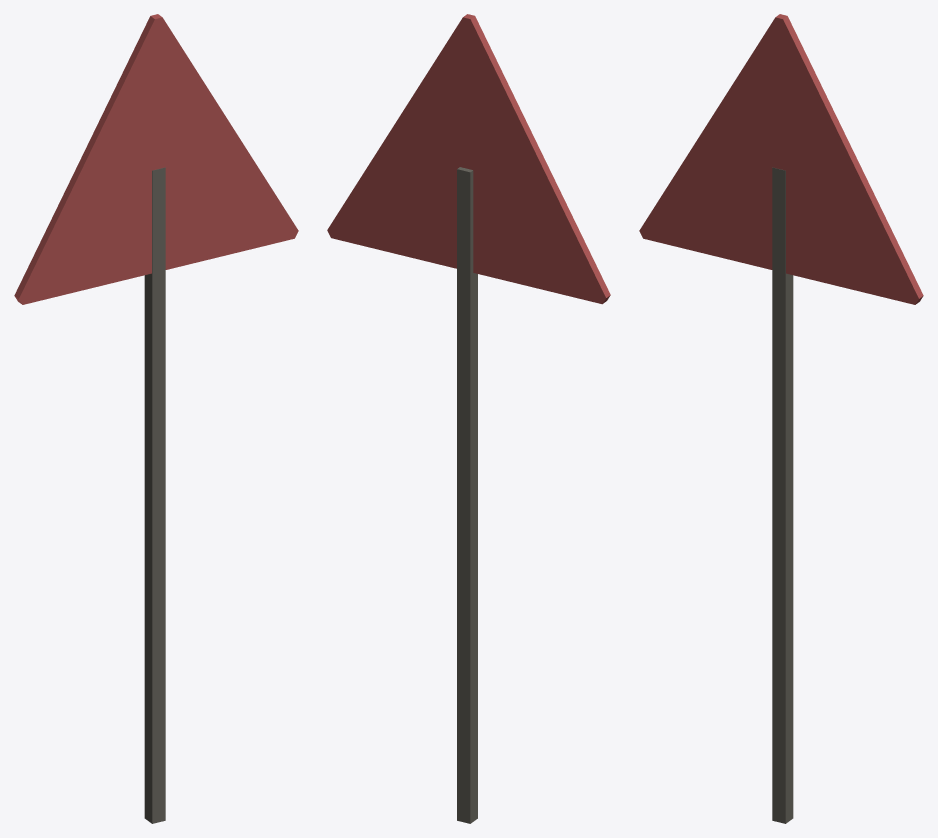
Rendered from TriangleRoadSign.fbx.
3 renders of one model, left to right at view 1: azimuth 30°, elevation 25°; view 2: azimuth 150°, elevation 25°; view 3: azimuth 330°, elevation 25°, orthographic.
Parts seen in each view (by area): view 1: Cylinder, Cube; view 2: Cylinder, Cube; view 3: Cylinder, Cube.
Part boxes in pixels (x1,y1,x2,y2): Cylinder: (14, 14, 298, 304); Cube: (144, 167, 165, 823); Cylinder: (327, 14, 610, 304); Cube: (457, 167, 477, 823); Cylinder: (639, 14, 923, 304); Cube: (772, 167, 793, 823).
Size of the model in its own units: 146 by 400 by 6.97.
